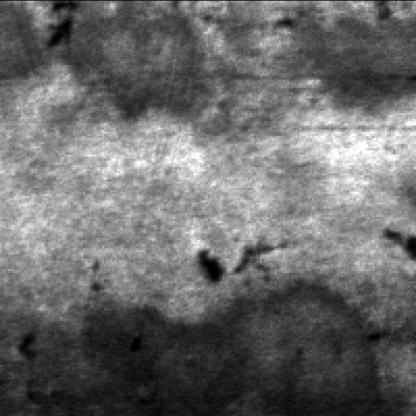inclusion: (187, 231, 256, 281), (37, 0, 79, 50)
patches: (0, 284, 374, 414), (0, 0, 218, 125), (268, 0, 412, 106)
